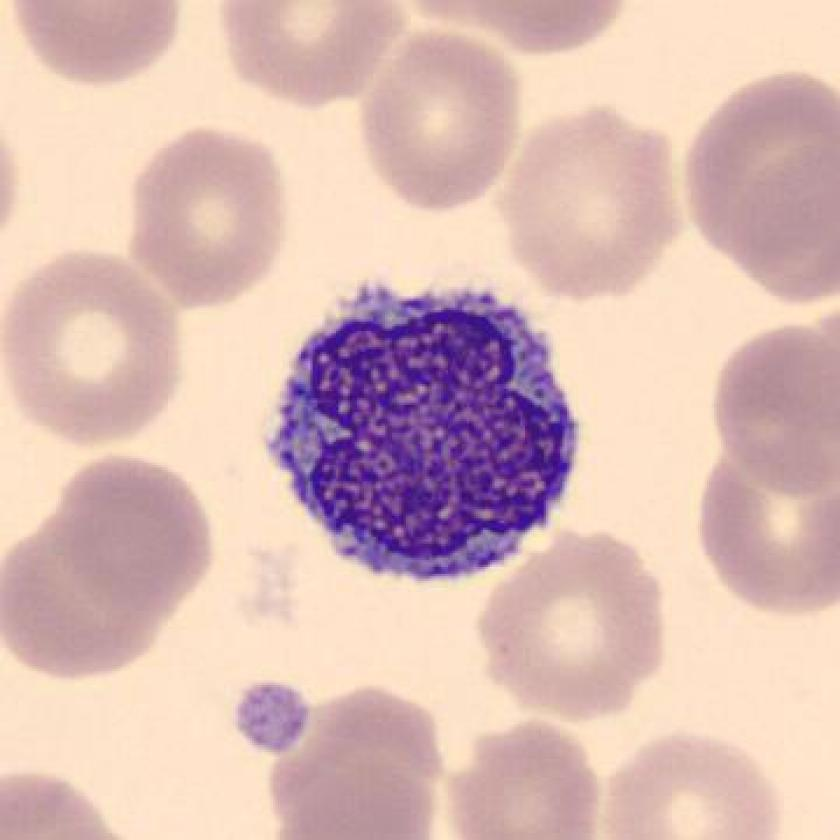monocyte: (248, 265, 603, 607)
